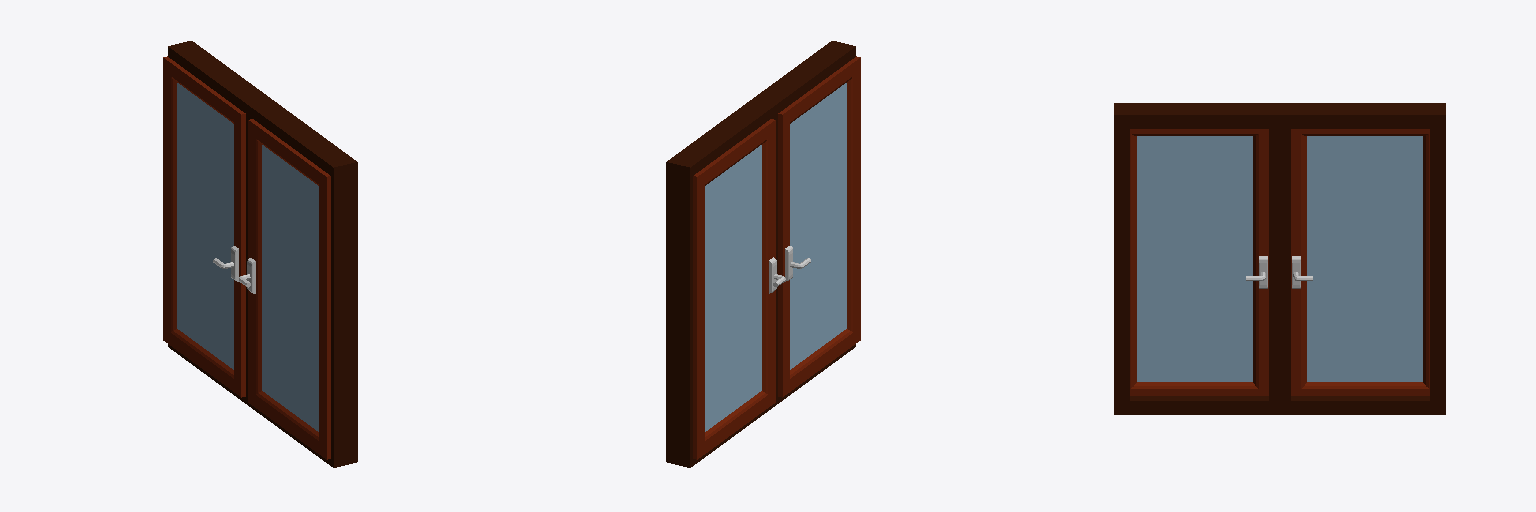
The model's file is window.obj.
3 renders of one model, left to right at view 1: azimuth 30°, elevation 25°; view 2: azimuth 150°, elevation 25°; view 3: azimuth 270°, elevation 25°, orthographic.
Parts seen in each view (by area): view 1: Cube.005, Cube.003, Cube; view 2: Cube.003, Cube.005, Cube; view 3: Cube.003, Cube.005, Cube.
Part boxes in pixels (x1,y1,x2,y2): Cube.005: (239,119,330,459); Cube.003: (163,56,245,397); Cube: (168,41,357,467); Cube.003: (693,119,785,459); Cube.005: (778,56,860,397); Cube: (666,41,855,467); Cube.003: (1291,129,1429,395); Cube.005: (1130,129,1268,395); Cube: (1114,103,1445,414).
Bounding box in the file's own units: 0.2215 × 1.2 × 1.2.